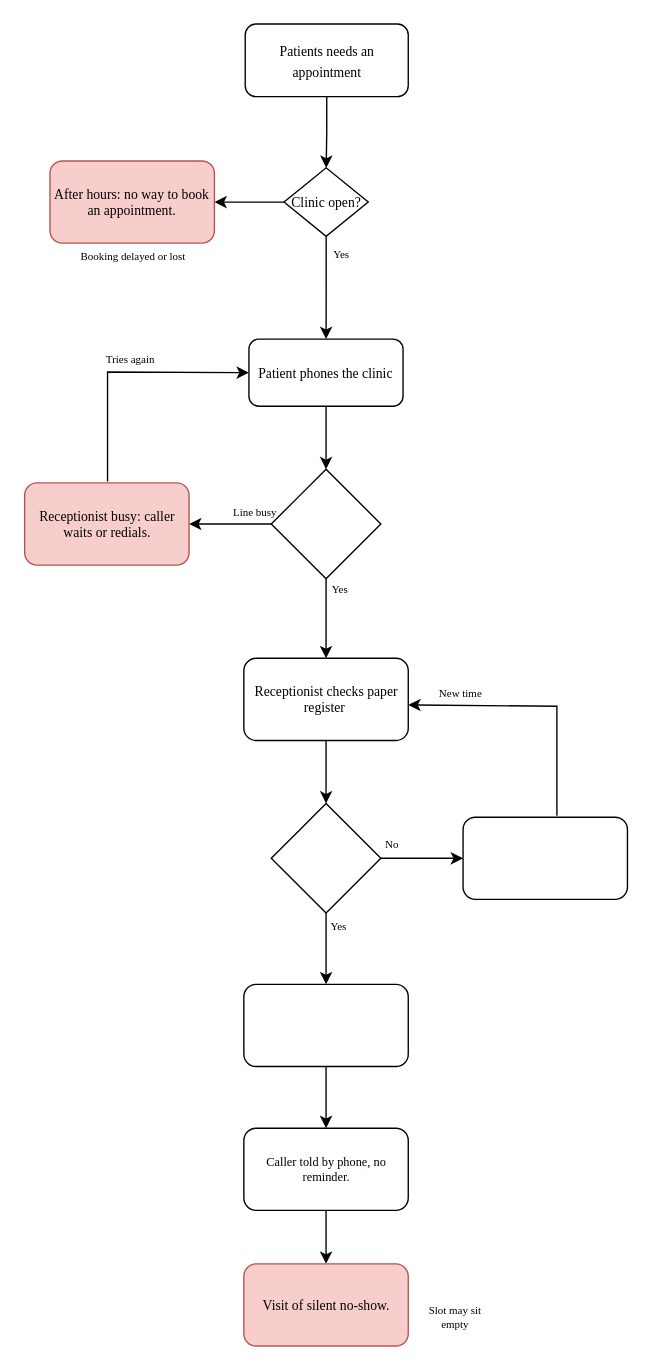
Some shapes in this 651 by 1370 pixel diagram are drawn without their labels. Each missing label, with the centre of its shape:
"Name written in register" belongs at (325,1025).
"Offers another time" belongs at (544,857).
"Receptionist free" belongs at (325,523).
"Slot free?" belongs at (325,857).
